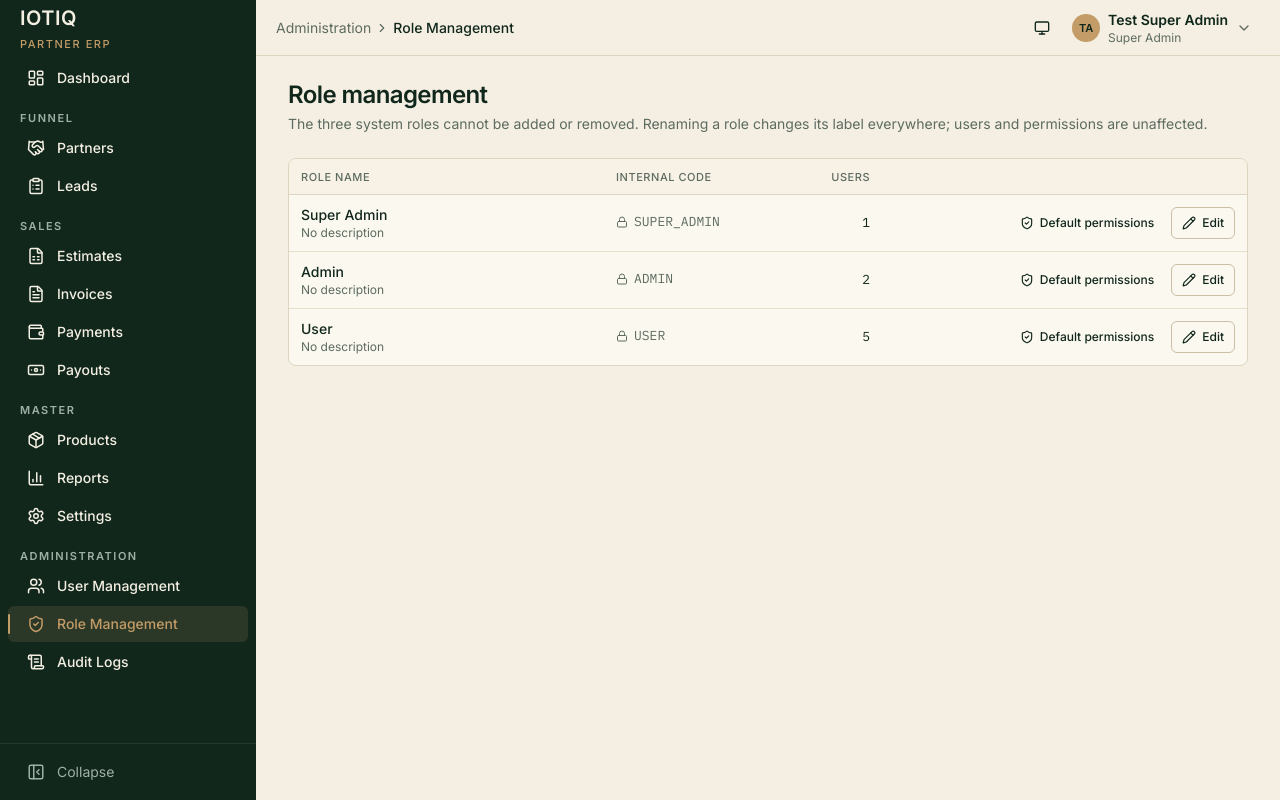
it: role management › renames a role and shows the new name from the server
This screenshot has width=1280, height=800.
Click the button with aria-label "Edit Admin": [1203, 280] box [1171, 264, 1235, 296]
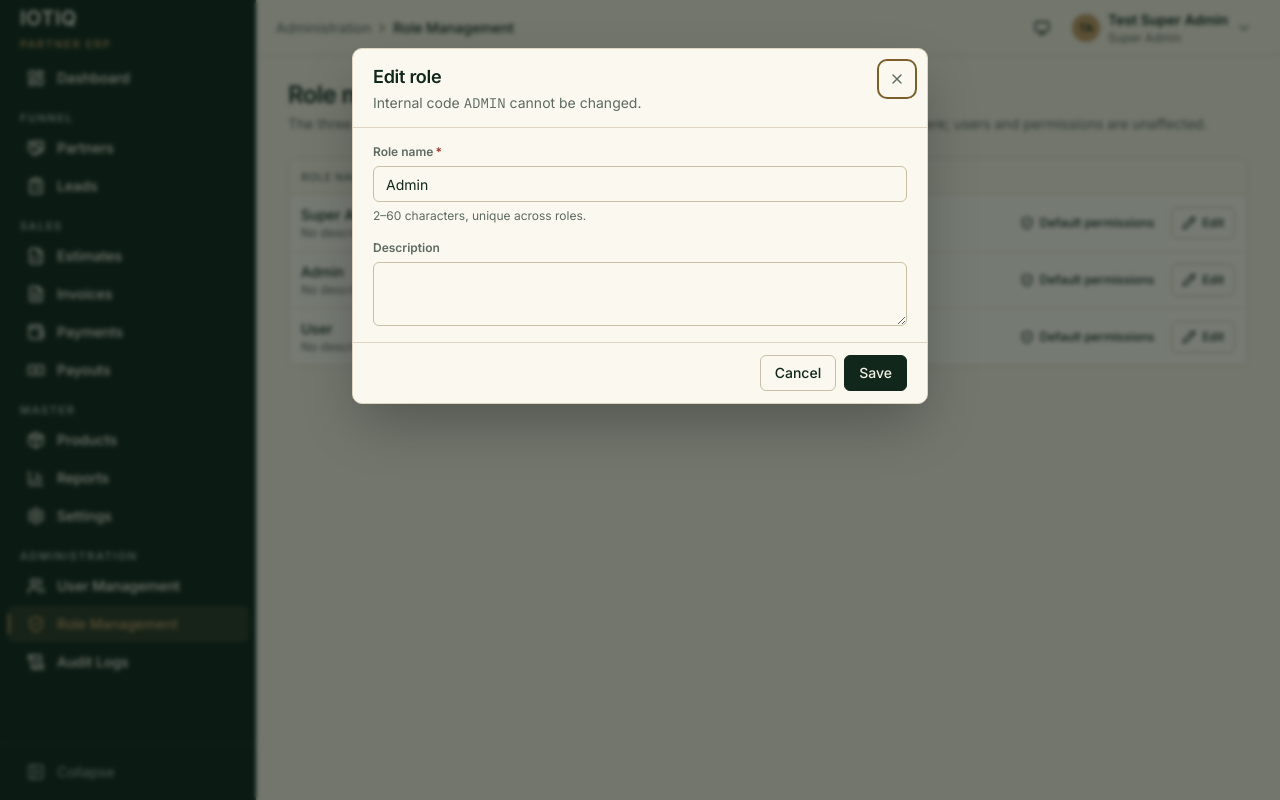
Replace the text in the field labelled "Role name" with "  Operations   Manager ": [640, 184] box [373, 166, 907, 202]
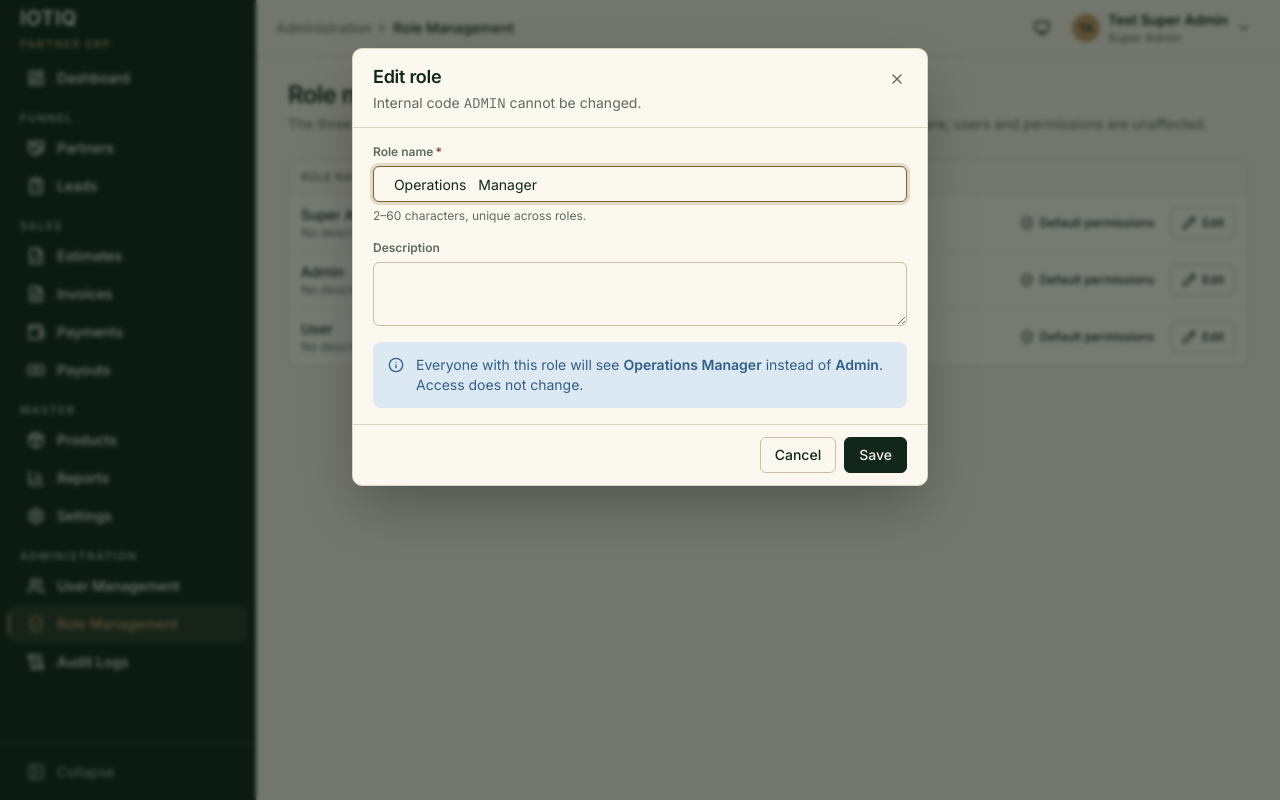
Click the button "Save": [876, 455] box [844, 437, 907, 473]
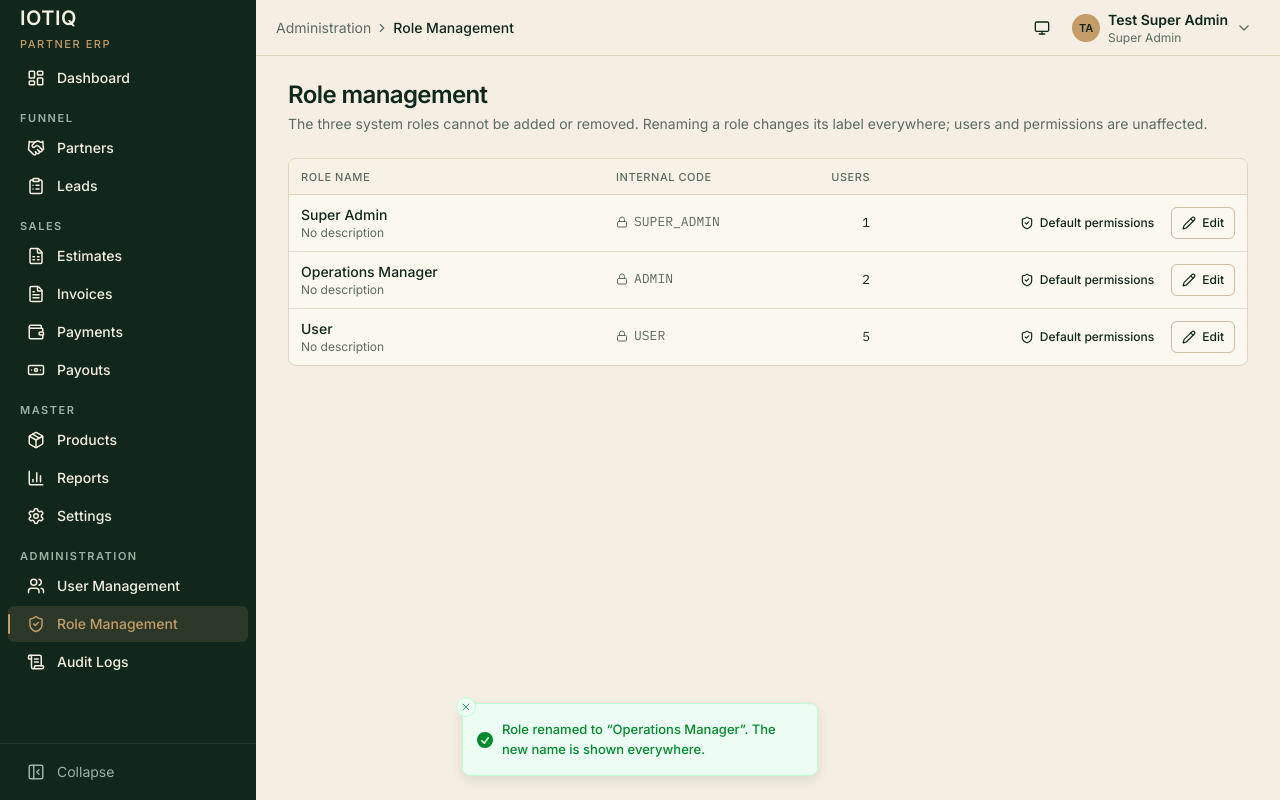
Expected: the text "Operations Manager" is shown, [301, 263, 438, 280]
